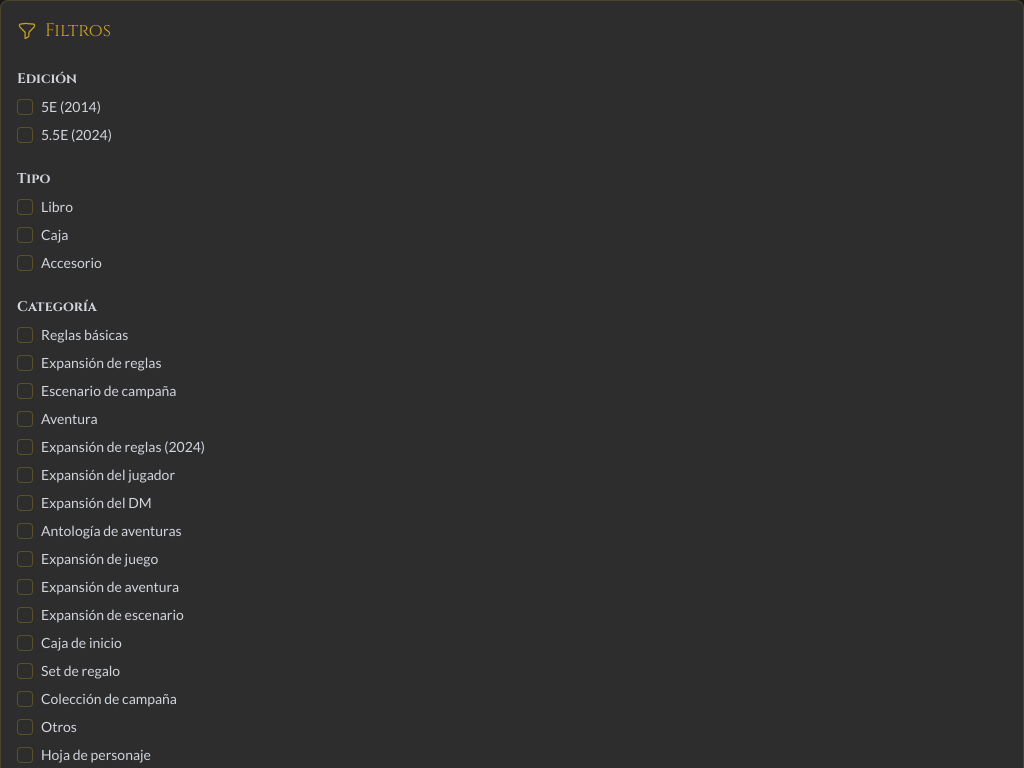
Test case: FilterPanel › las categorías se limitan a los tipos seleccionados
Click the checkbox labelled "Accesorio" at (25, 263), box [17,255,33,271]
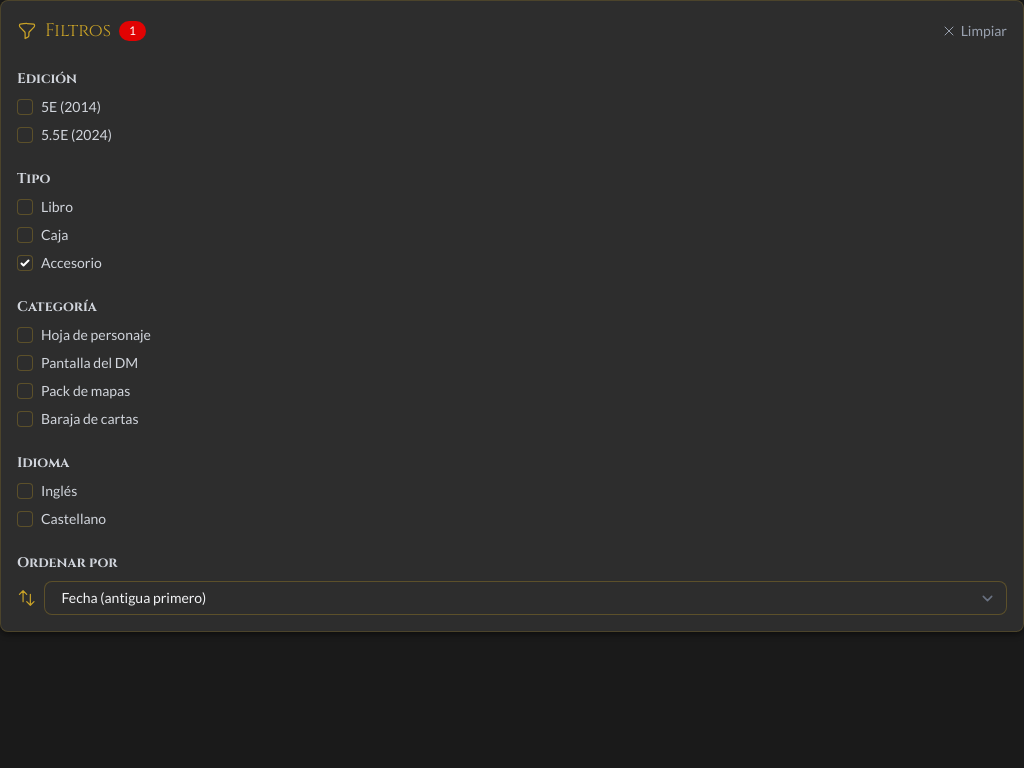
Check: no elements labelled "Aventura" are shown
